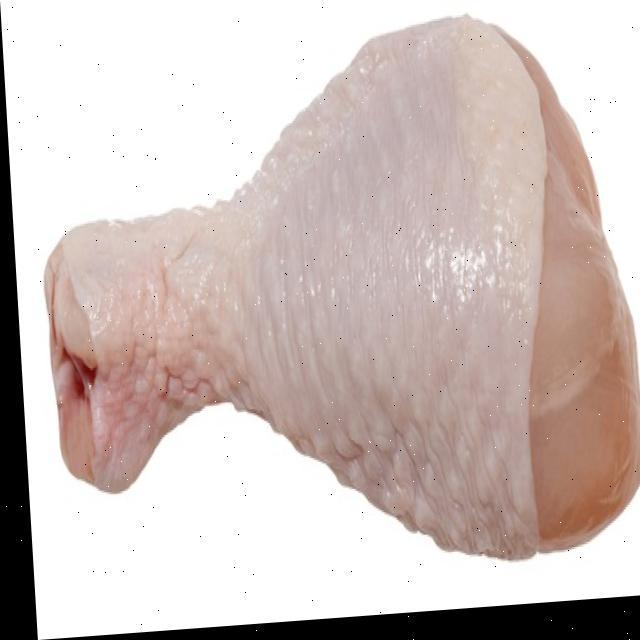leg: (24, 11, 640, 606)
